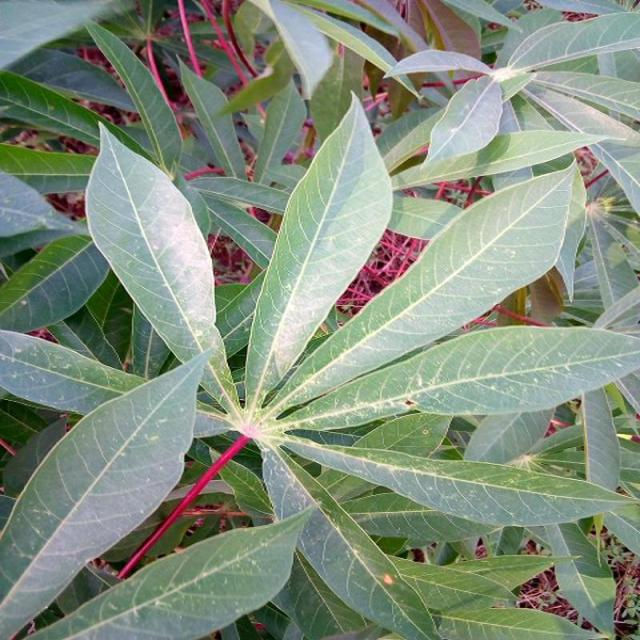cassava leaf: (1, 3, 638, 638), (260, 152, 582, 422), (0, 341, 215, 638), (242, 89, 394, 416), (83, 118, 239, 420)
